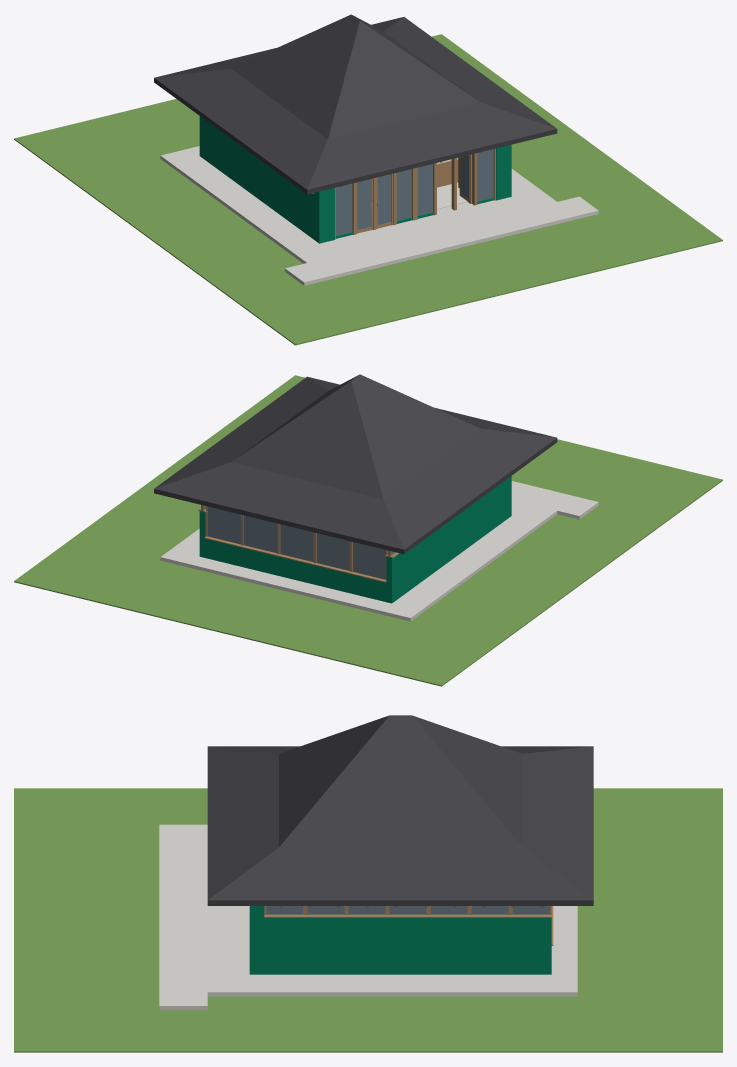
The model's file is imani.glb.
3 views of the same model, one above another, from view 1: azimuth 30°, elevation 25°; view 2: azimuth 150°, elevation 25°; view 3: azimuth 270°, elevation 25° (orthographic). The views are drawn at different scales.
Parts seen in each view (by area): view 1: IMANI; view 2: IMANI; view 3: IMANI.
Boxes of the visible parts, x1=… form: IMANI: x1=14, y1=14, x2=722, y2=345; IMANI: x1=14, y1=374, x2=722, y2=686; IMANI: x1=14, y1=715, x2=722, y2=1052.
Bounding box in the file's own units: 19.27 × 7.03 × 21.95.
